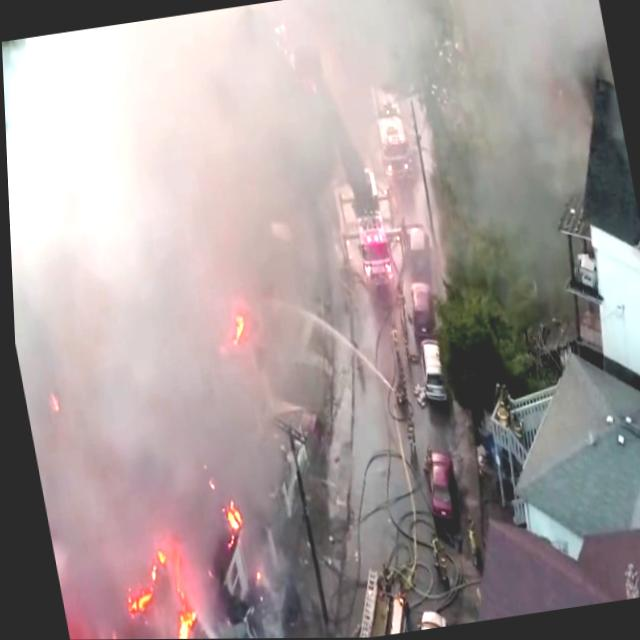smoke: (8, 119, 238, 469)
